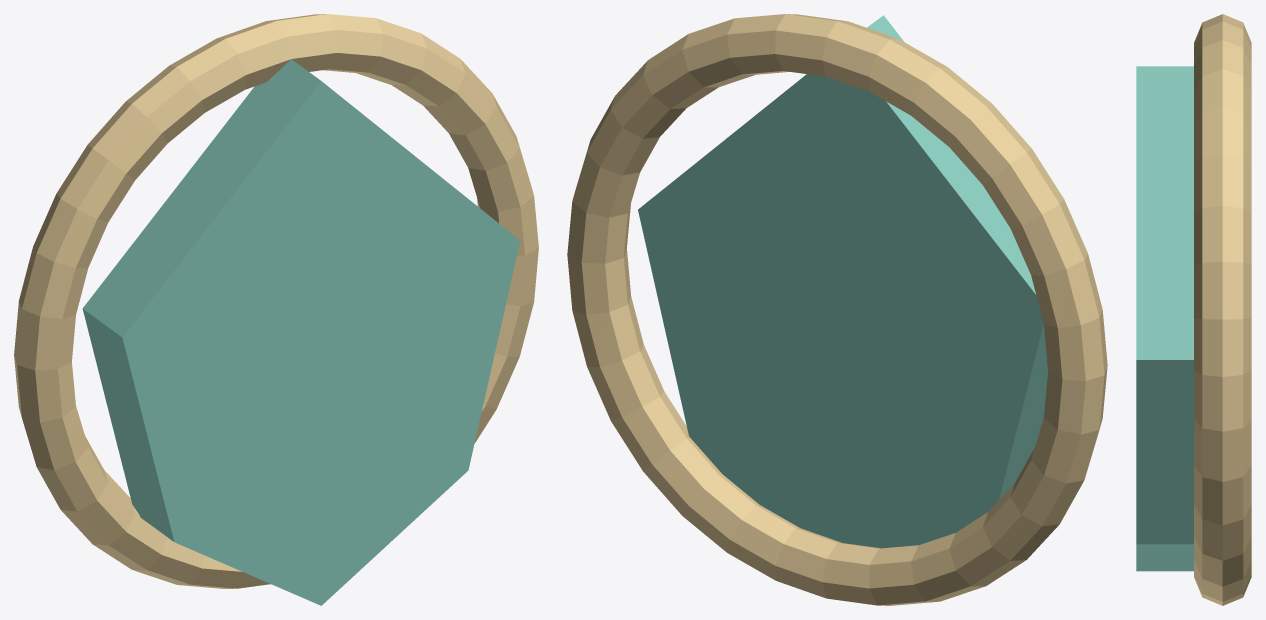
File: ACC_Gem_Brooch_Emerald.glb
3 renders of one model, left to right at view 1: azimuth 30°, elevation 25°; view 2: azimuth 150°, elevation 25°; view 3: azimuth 270°, elevation 25°, orthographic. The views are drawn at different scales.
Parts seen in each view (by area): view 1: ACC_Gem_Brooch_Emerald_2, ACC_Gem_Brooch_Emerald_1; view 2: ACC_Gem_Brooch_Emerald_2, ACC_Gem_Brooch_Emerald_1; view 3: ACC_Gem_Brooch_Emerald_1, ACC_Gem_Brooch_Emerald_2.
Part boxes in pixels (x1,y1,x2,y2): ACC_Gem_Brooch_Emerald_2: (82,59,520,605); ACC_Gem_Brooch_Emerald_1: (14,14,538,588); ACC_Gem_Brooch_Emerald_2: (638,15,1047,548); ACC_Gem_Brooch_Emerald_1: (567,14,1107,605); ACC_Gem_Brooch_Emerald_1: (1194,14,1251,605); ACC_Gem_Brooch_Emerald_2: (1136,66,1193,571).
Bounding box in the file's own units: 0.06 × 0.062 × 0.012.
